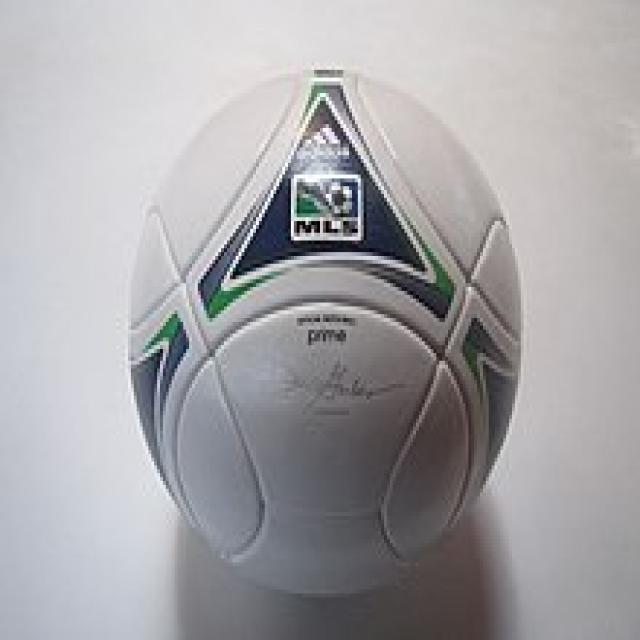soccer ball: (128, 66, 521, 601)
